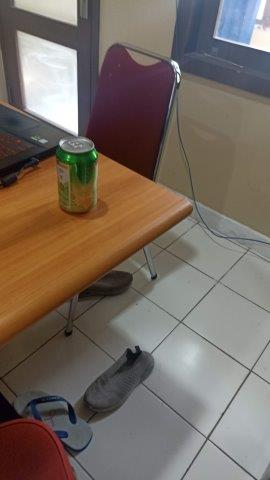kaleng: (58, 137, 97, 213)
